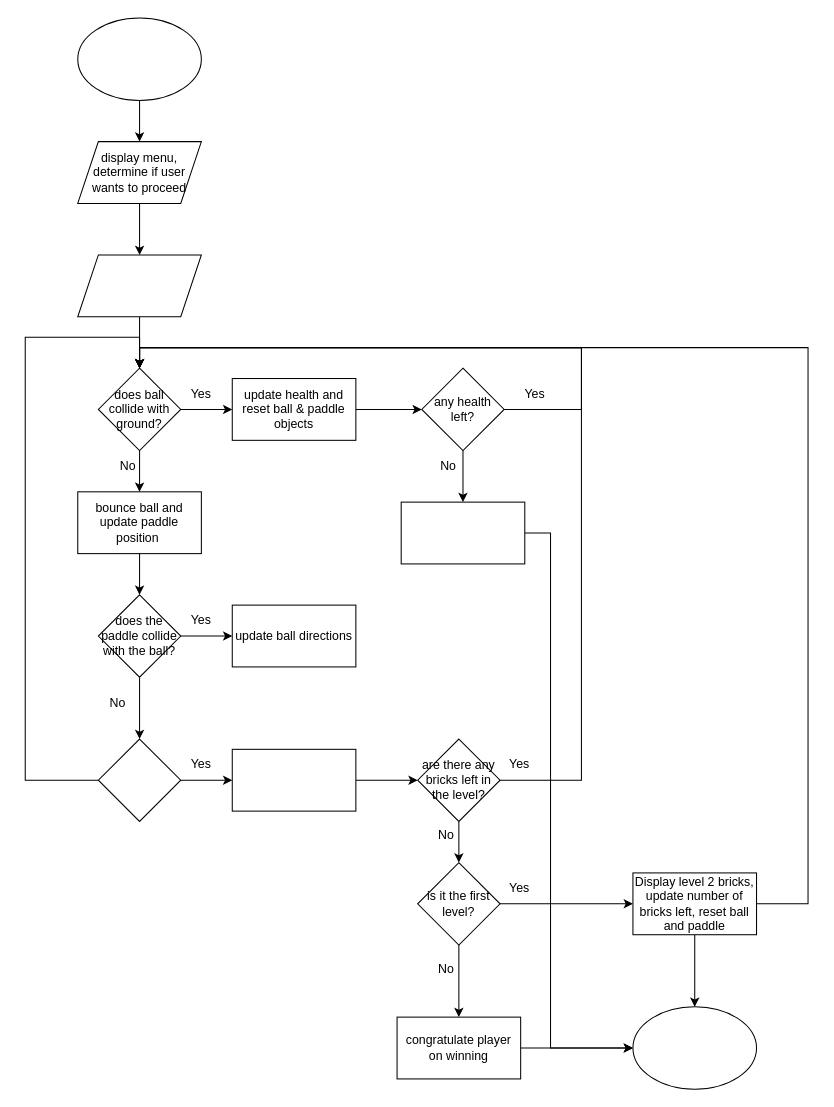
Image size: 834x1107. Some labels were removed from this diagram. The shapes that lost their labels are listed below. From the top down, each one's centre as x and y in pixels, then its label:
At pixel 139 58: "Start".
At pixel 139 285: "determine if user wants to start playing game".
At pixel 462 532: "print losing message".
At pixel 139 779: "does the ball collide with a brick?".
At pixel 293 779: "update score, number of bricks left, and check ball deflection".
At pixel 694 1047: "exit".
